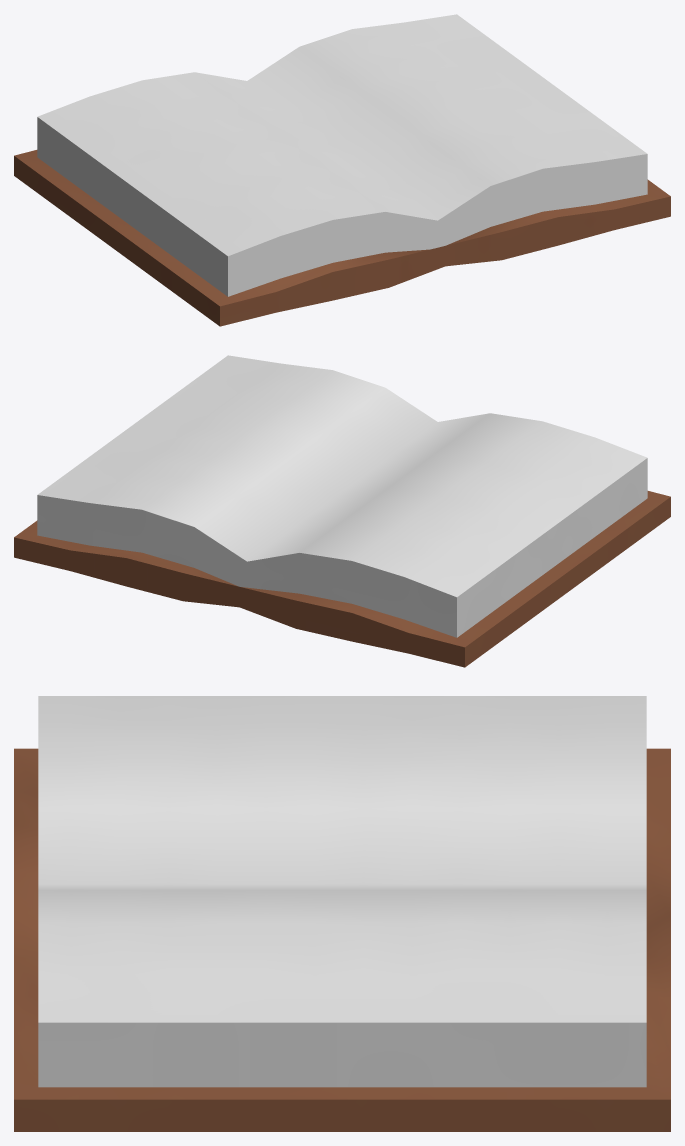
The model's file is Book_02_02.fbx.
3 views of the same model, one above another, from view 1: azimuth 30°, elevation 25°; view 2: azimuth 150°, elevation 25°; view 3: azimuth 270°, elevation 25° (orthographic). The views are drawn at different scales.
Parts seen in each view (by area): view 1: Book_02_02; view 2: Book_02_02; view 3: Book_02_02.
Part boxes in pixels (x1=…): Book_02_02: x1=14, y1=14, x2=670, y2=326; Book_02_02: x1=14, y1=355, x2=670, y2=667; Book_02_02: x1=14, y1=696, x2=670, y2=1131.
Bounding box in the file's own units: 0.4877 × 0.0766 × 0.3859.
